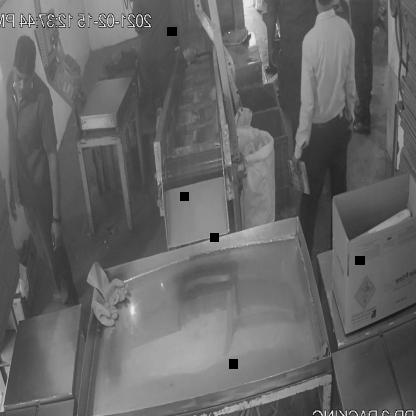no_glove: (289, 57, 316, 172), (44, 140, 67, 260), (3, 115, 19, 226), (264, 2, 280, 74)
